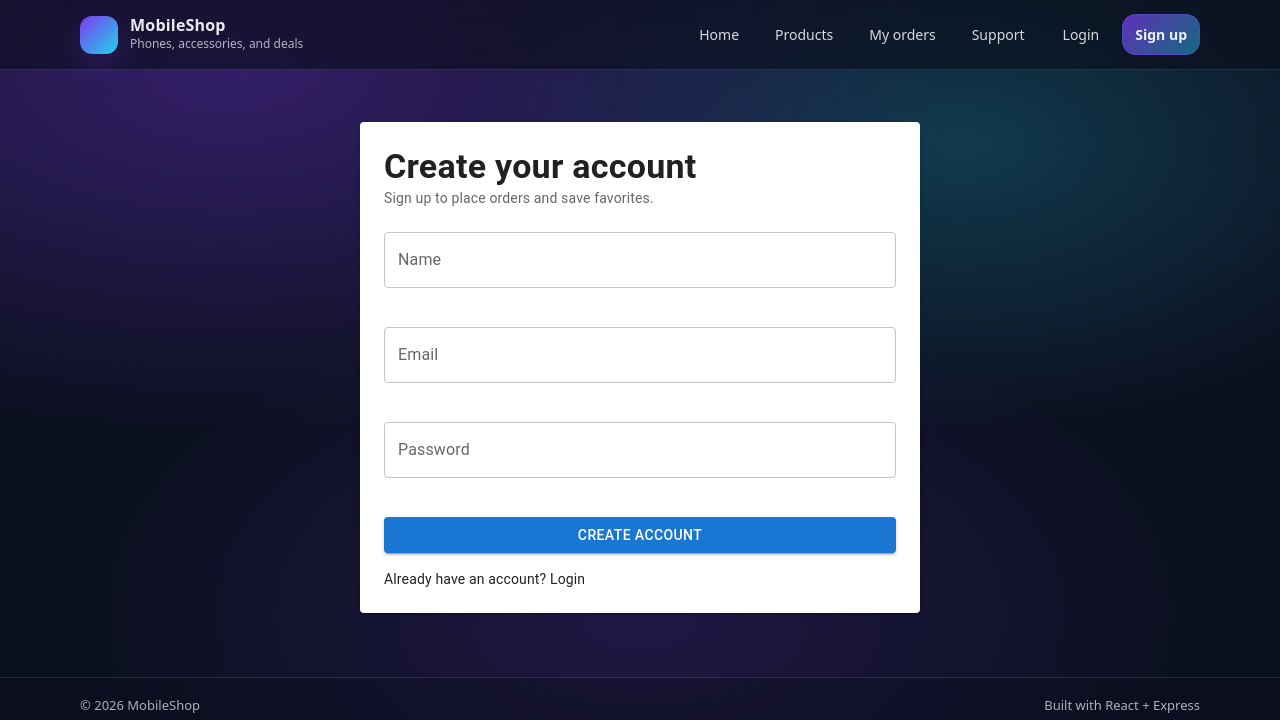
Test case: User Registration › should show validation errors for invalid data
Note: Submit empty form
Click the submit button: (640, 536) [384,517,896,554]
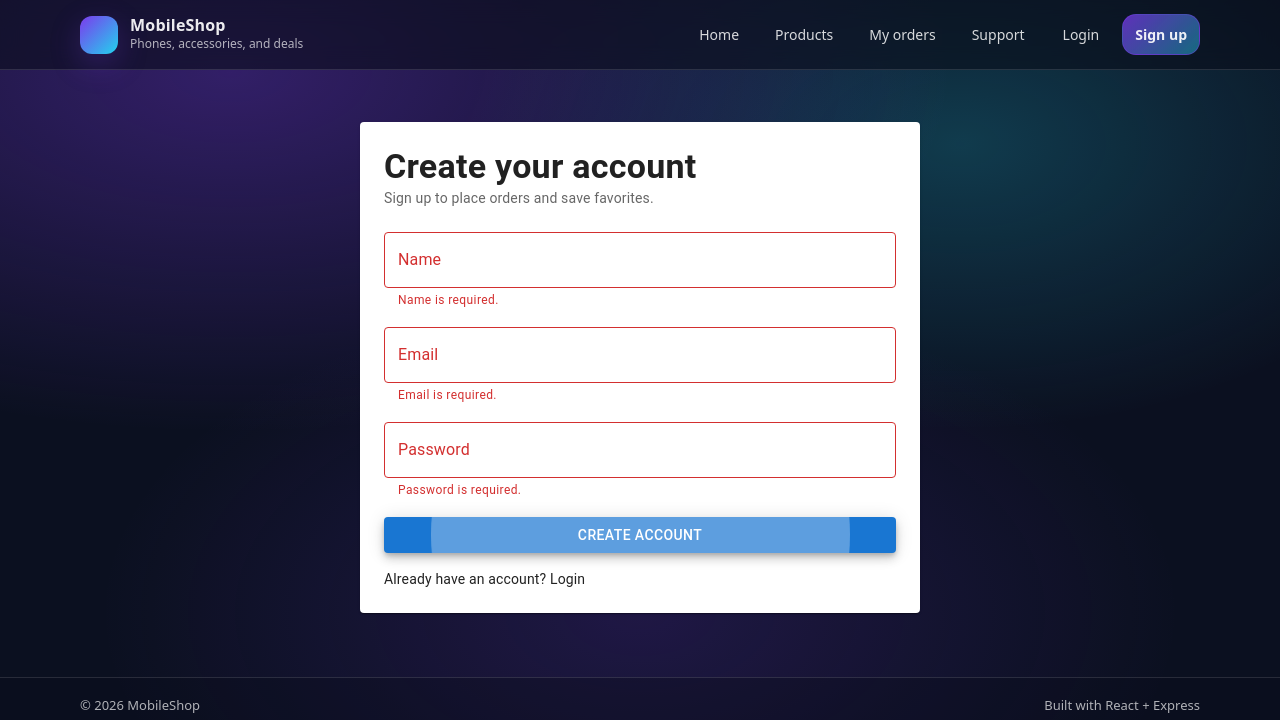
expect the text "Name is required" is shown: met, box [398,293,499,307]
expect the text "Email is required" is shown: met, box [398,388,497,402]
expect the text "Password is required" is shown: met, box [398,483,521,497]
